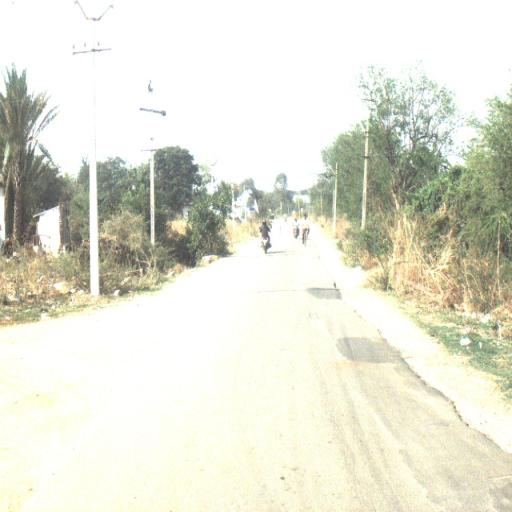street_light_0: (353, 108, 370, 140), (326, 162, 338, 178), (314, 185, 322, 193), (305, 187, 311, 196)
